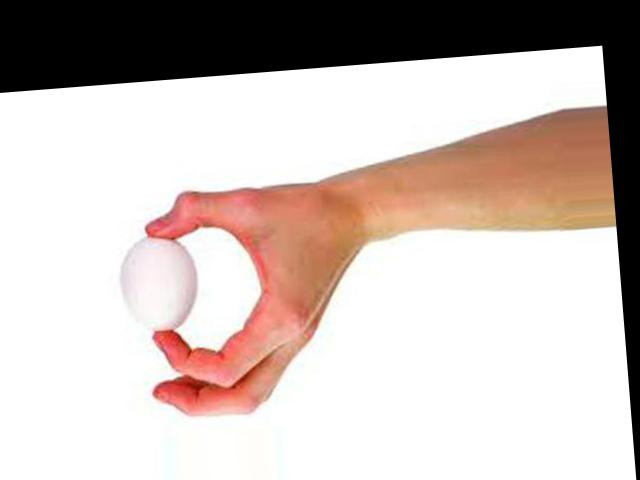egg: (117, 233, 201, 334)
